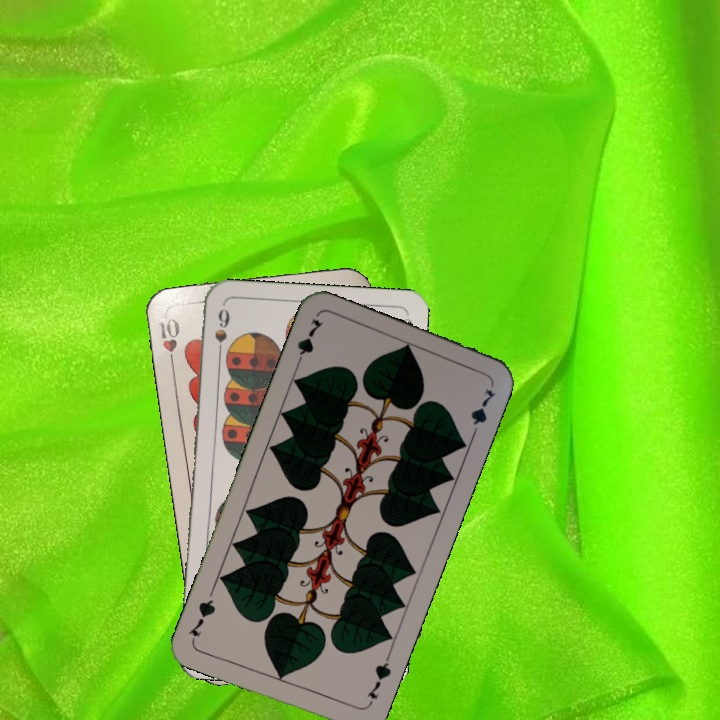G7: (291, 314, 326, 371), (362, 653, 394, 709)
H10: (154, 314, 182, 372)
S9: (210, 304, 232, 363)
